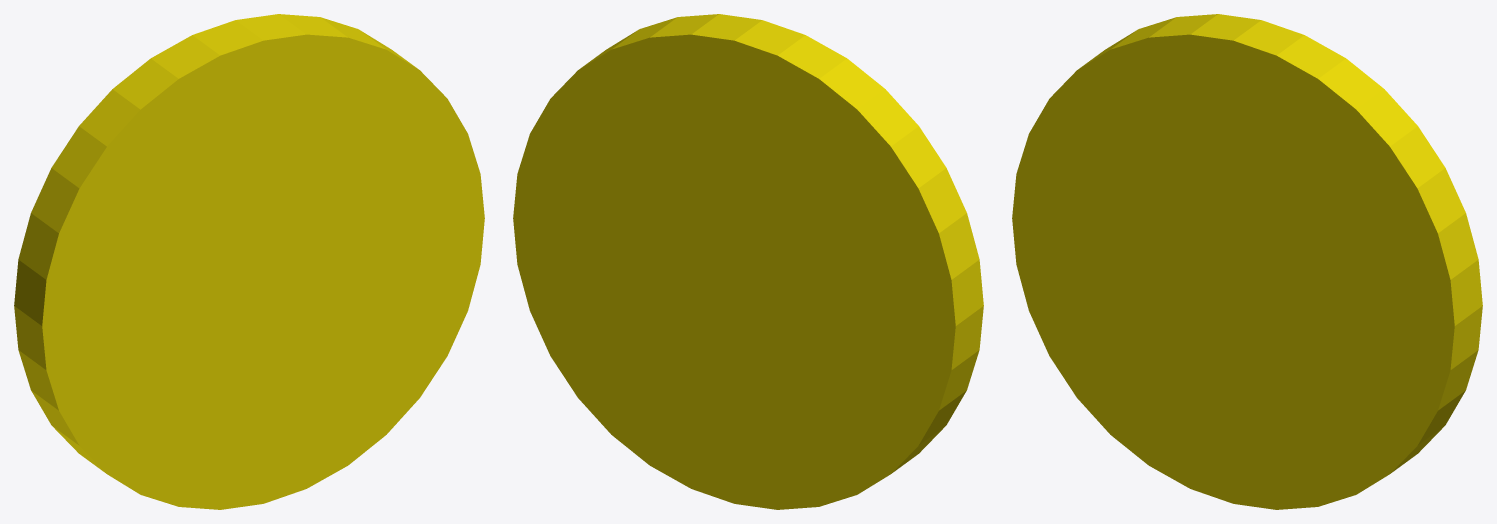
File: coin.gltf
The picture shows the model from 3 angles, left to right: view 1: azimuth 30°, elevation 25°; view 2: azimuth 150°, elevation 25°; view 3: azimuth 330°, elevation 25°; orthographic projection.
Parts seen in each view (by area): view 1: Cylinder; view 2: Cylinder; view 3: Cylinder.
Boxes of the visible parts, x1,y1,x2,y2 form: Cylinder: (14, 14, 484, 509); Cylinder: (513, 14, 983, 509); Cylinder: (1012, 14, 1482, 509).
Size of the model in its own units: 2 by 2 by 0.22.
